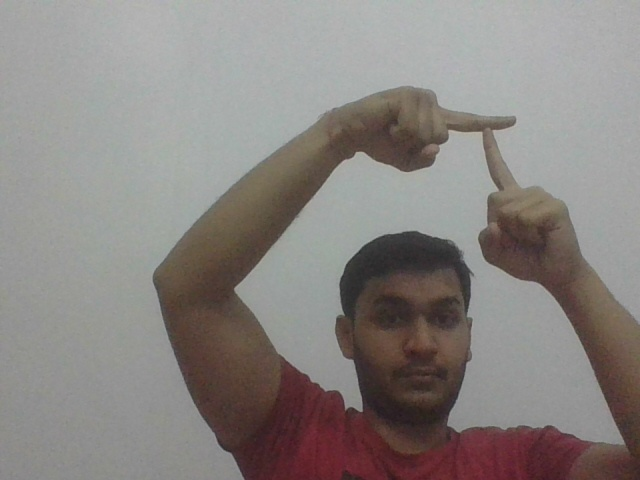T: (449, 103, 544, 186)
